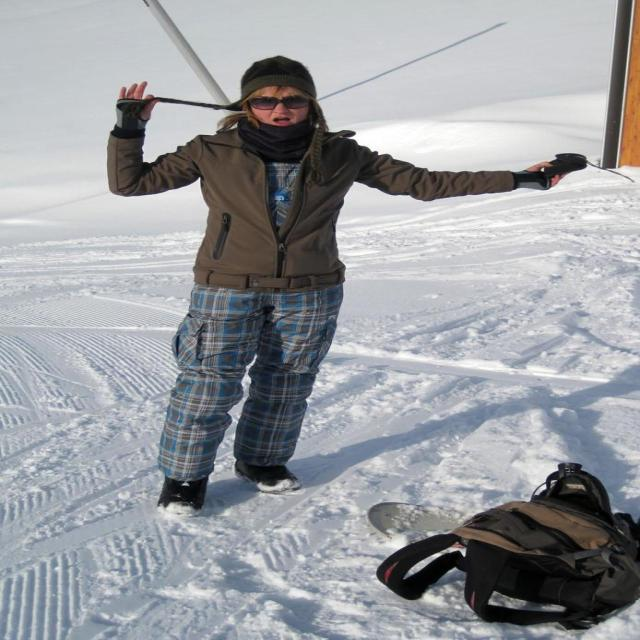no_helmet: (262, 52, 320, 92)
